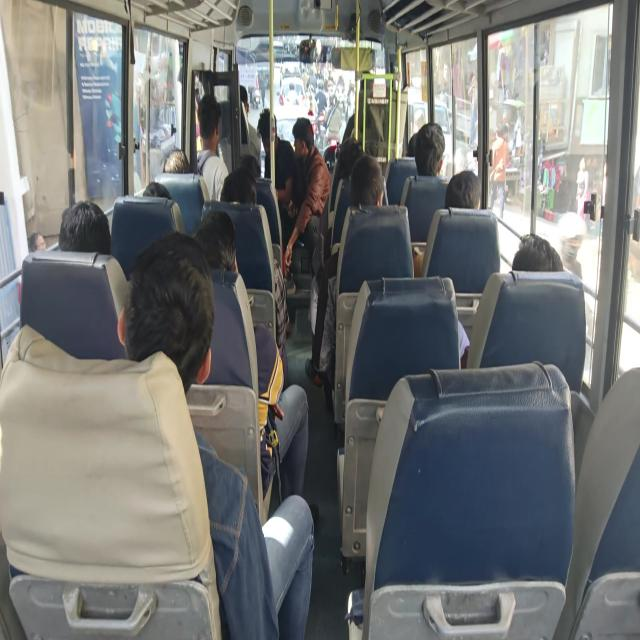person: (115, 227, 223, 404), (50, 194, 114, 258), (194, 209, 245, 284), (512, 231, 566, 285), (349, 153, 385, 218), (413, 122, 451, 183), (444, 163, 487, 214), (221, 165, 258, 218), (195, 98, 226, 160), (287, 114, 316, 168), (163, 146, 193, 192), (354, 62, 378, 110), (232, 152, 264, 187), (336, 136, 363, 171), (142, 178, 172, 209), (233, 80, 253, 122), (258, 109, 279, 148), (408, 135, 419, 157)
